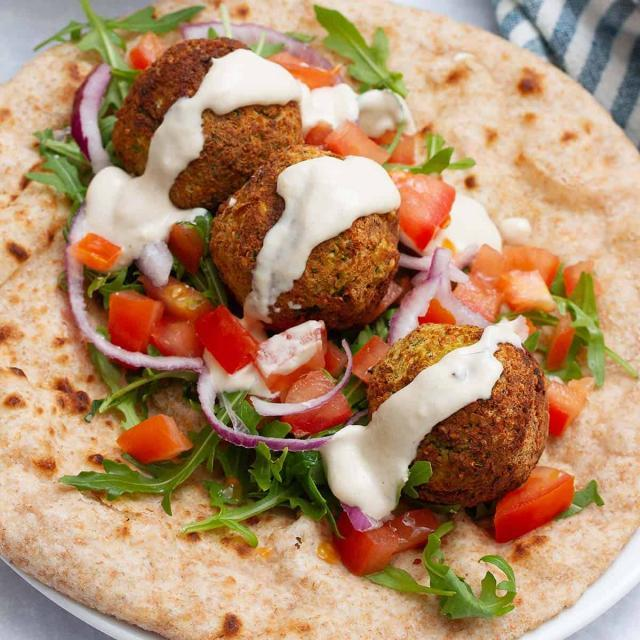flafel: (210, 147, 401, 329), (371, 319, 546, 509), (112, 39, 290, 193)
